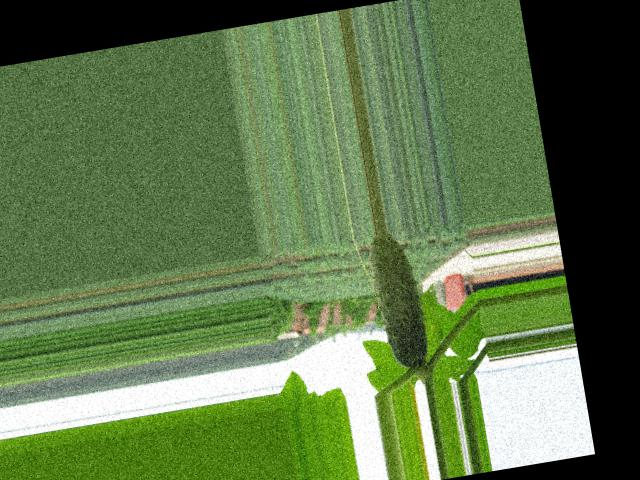cucumber: (365, 228, 431, 370)
